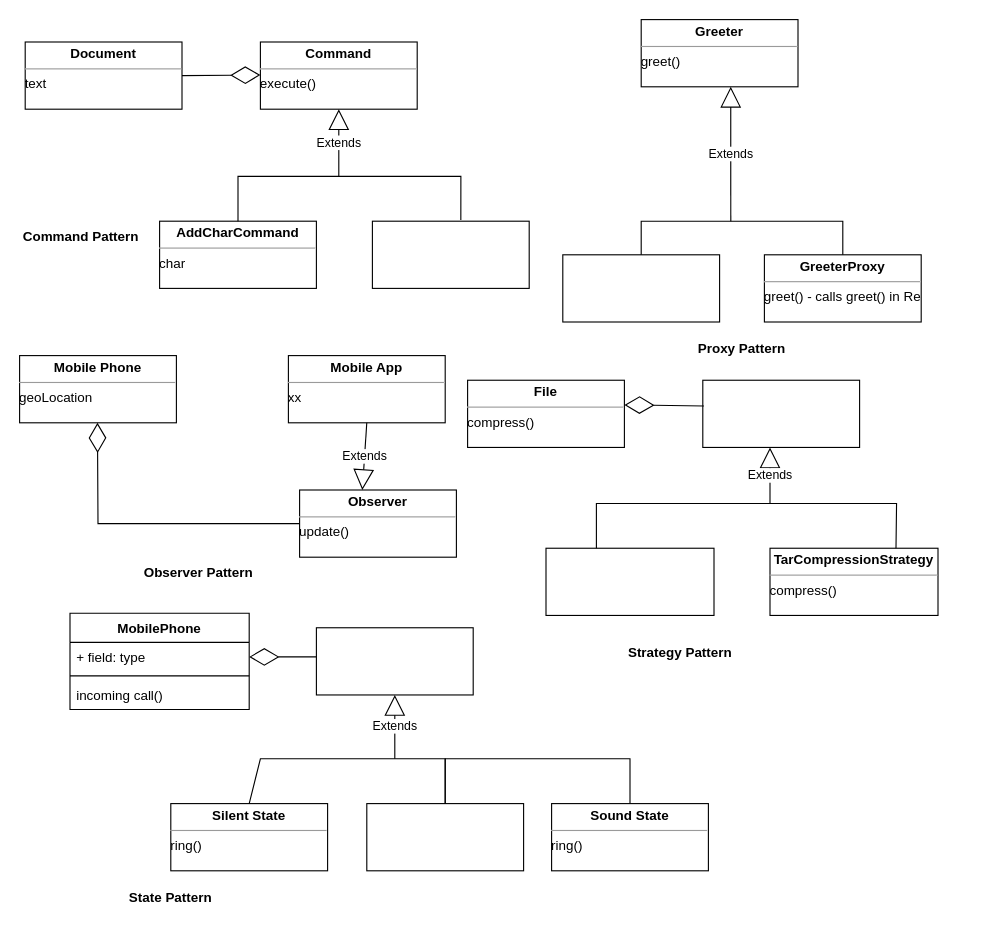
The diagram is 996 pixels wide and 931 high, and some of its shapes have lost their labels. The shapes that lost their labels are listed below. From the top down, each one's centre as x and y in pixels, then its label:
At point 450,254: "DeleteCharCommand".
At point 641,288: "RealGreeter greet()".
At point 781,413: "Strategy compress()".
At point 629,581: "ZipCompressionStrategy compress()".
At point 394,661: "Volume State ring()".
At point 445,836: "Vibrant State ring()".
